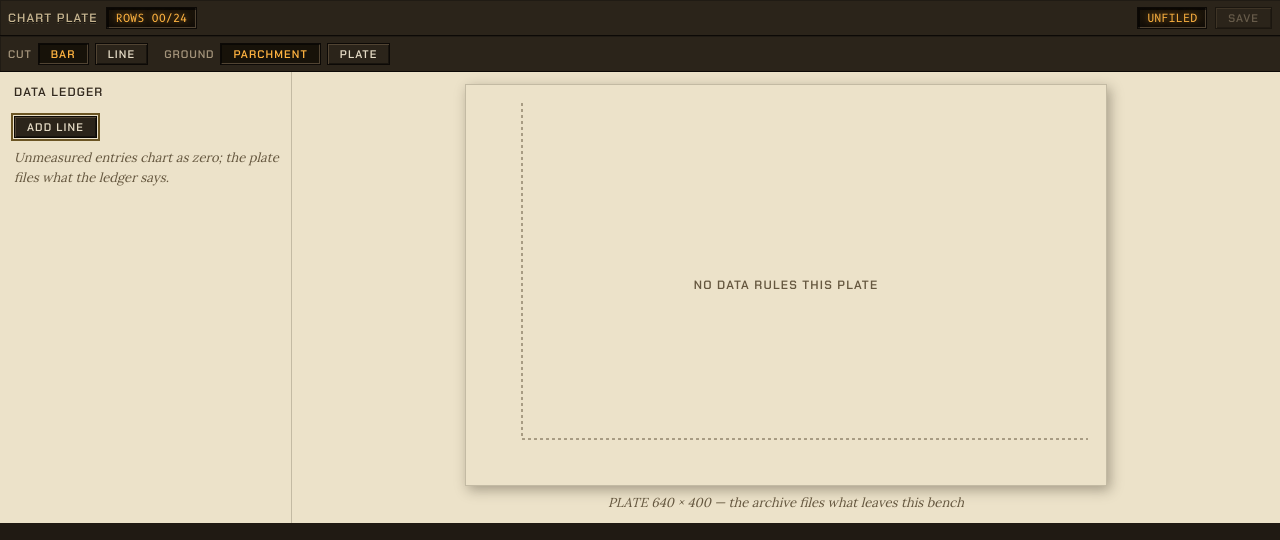
Scenario: chart plate surface · the bench › strikes a line from the ledger
Click the button "Add line" at (55, 127), box [14, 116, 97, 138]
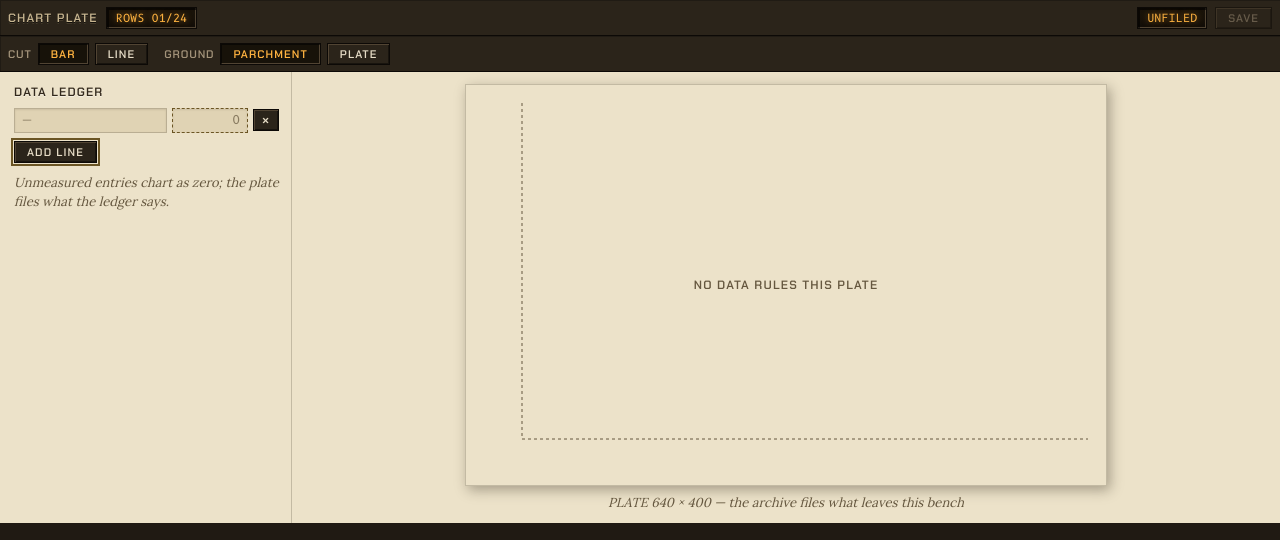
Type "Alpha" into the field with placeholder "—" at (90, 120), box [14, 108, 167, 133]
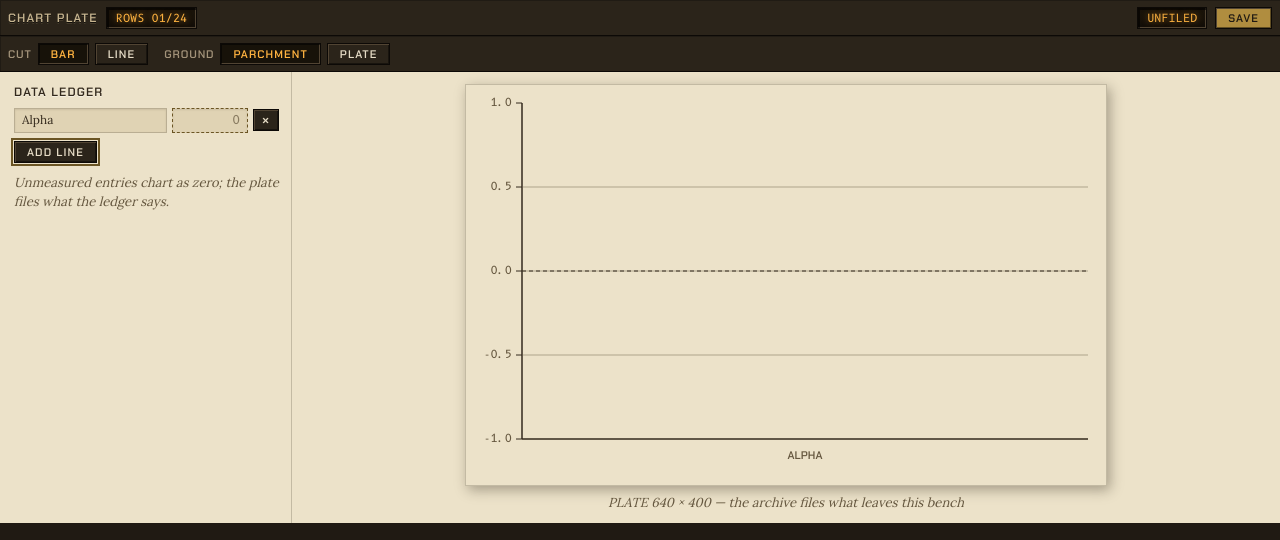
Type "12" into the field with placeholder "0" at (210, 120), box [172, 108, 248, 133]
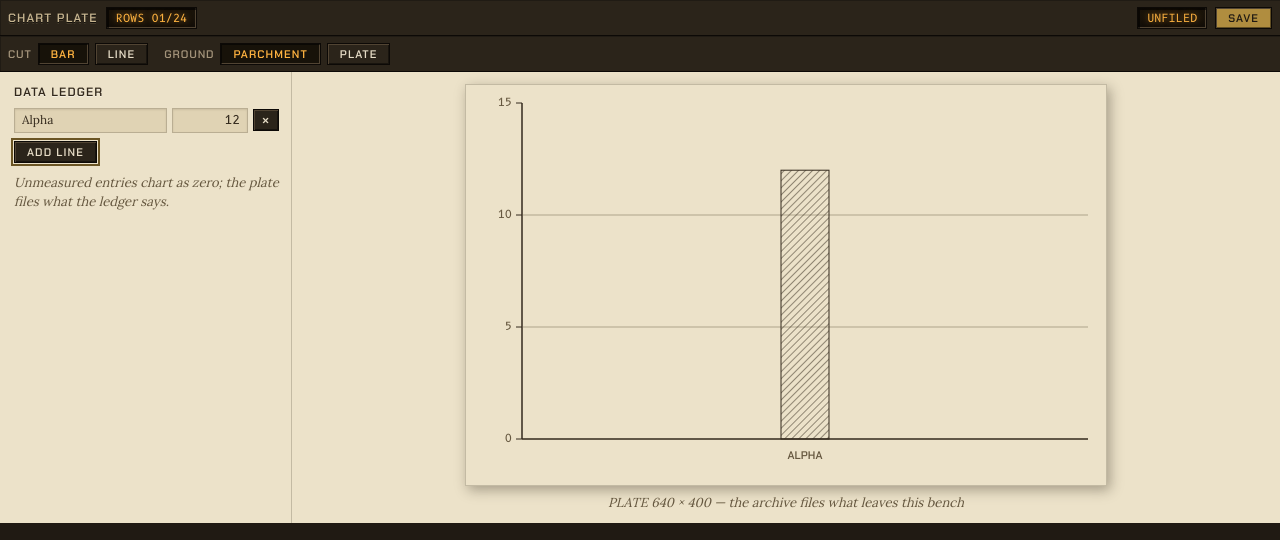
Click the button "Add line" at (55, 152), box [14, 141, 97, 163]
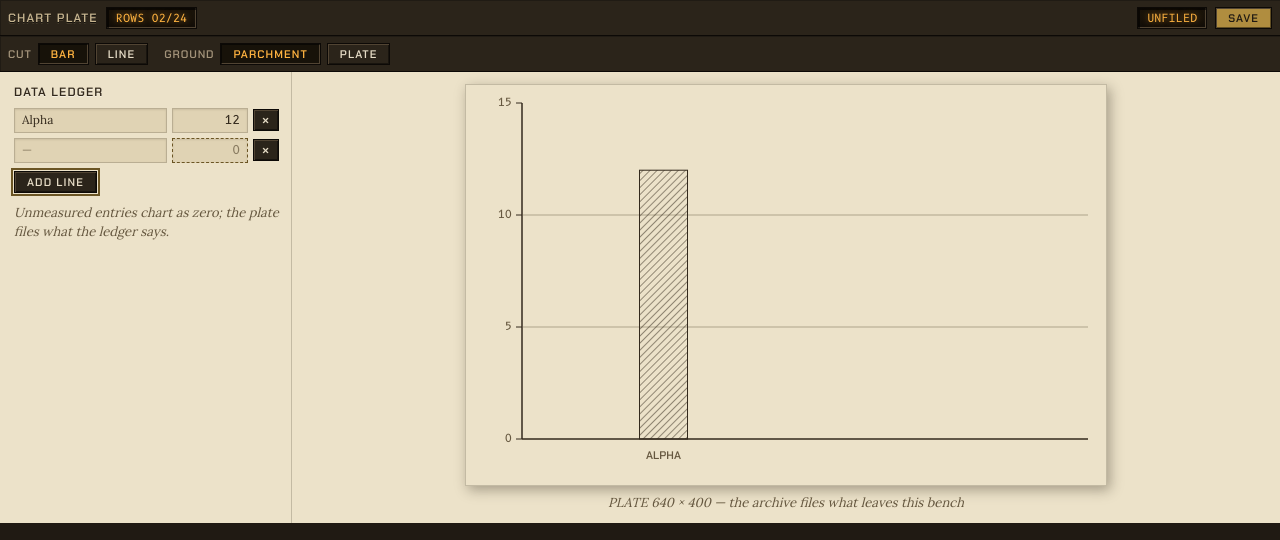
Type "Beta" into the field with placeholder "—" at (90, 150), box [14, 138, 167, 163]
Type "7" into the field with placeholder "0" at (210, 150), box [172, 138, 248, 163]
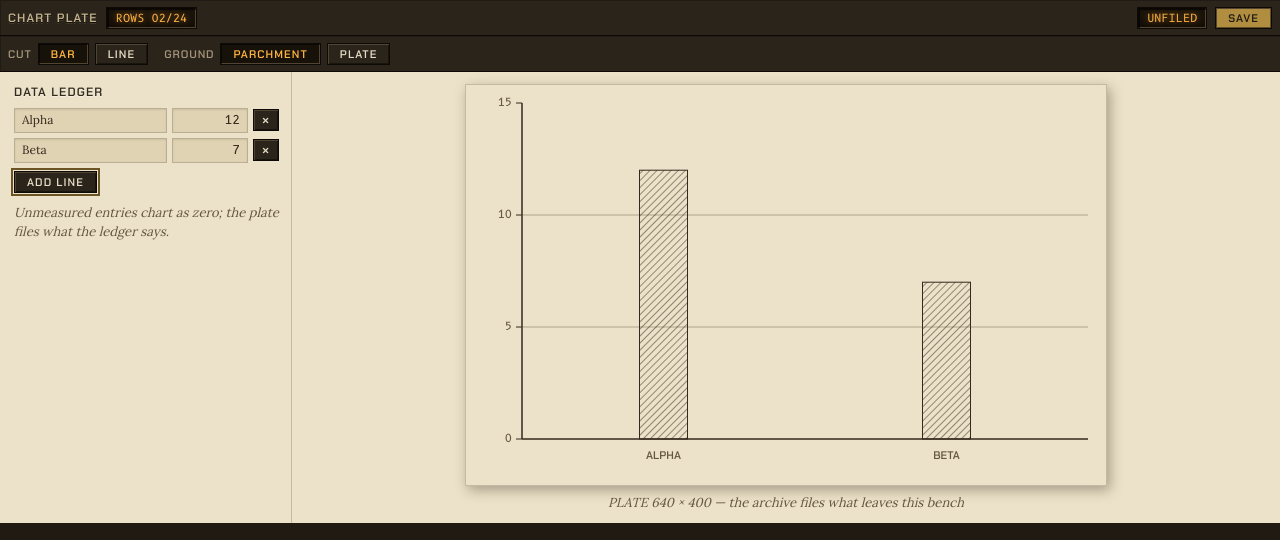
Click the 1st button "×" at (266, 120), box [253, 109, 279, 131]
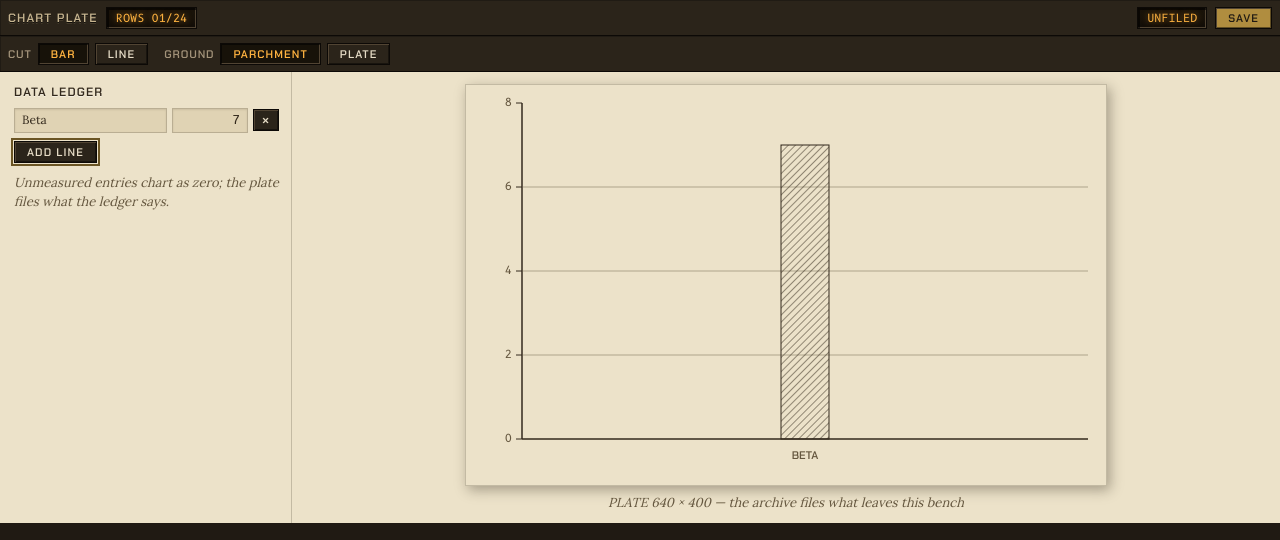
Check: the field named "Row 1 label" holds "Beta", box [14, 108, 167, 133]
